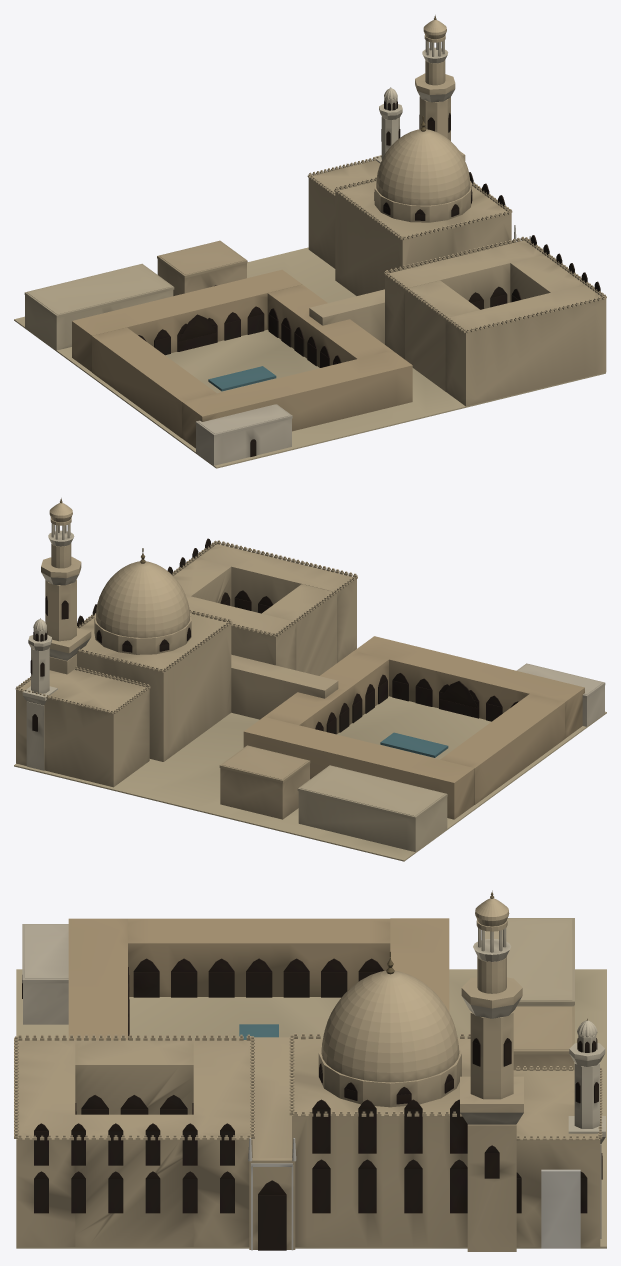
File: qalawun.glb
3 renders of one model, top to bottom at view 1: azimuth 30°, elevation 25°; view 2: azimuth 150°, elevation 25°; view 3: azimuth 270°, elevation 25°, orthographic. The views are drawn at different scales.
Parts seen in each view (by area): view 1: p1_hospital, p2_madrasa and mausoleum, p0_ground, p3_dome and minarets; view 2: p1_hospital, p2_madrasa and mausoleum, p3_dome and minarets, p0_ground; view 3: p2_madrasa and mausoleum, p1_hospital, p3_dome and minarets, p0_ground.
Boxes of the visible parts, left/top/right/bottom form: p1_hospital: left=24, top=240, right=412, bottom=465; p2_madrasa and mausoleum: left=307, top=155, right=606, bottom=406; p0_ground: left=14, top=247, right=605, bottom=468; p3_dome and minarets: left=373, top=15, right=472, bottom=222; p1_hospital: left=219, top=636, right=605, bottom=851; p2_madrasa and mausoleum: left=15, top=538, right=357, bottom=787; p3_dome and minarets: left=22, top=498, right=191, bottom=770; p0_ground: left=14, top=696, right=606, bottom=861; p2_madrasa and mausoleum: left=14, top=1033, right=602, bottom=1250; p1_hospital: left=22, top=918, right=574, bottom=1070; p3_dome and minarets: left=318, top=890, right=605, bottom=1251; p0_ground: left=16, top=969, right=606, bottom=1248.
Size of the model in its own units: 103 by 59.31 by 90.35.
